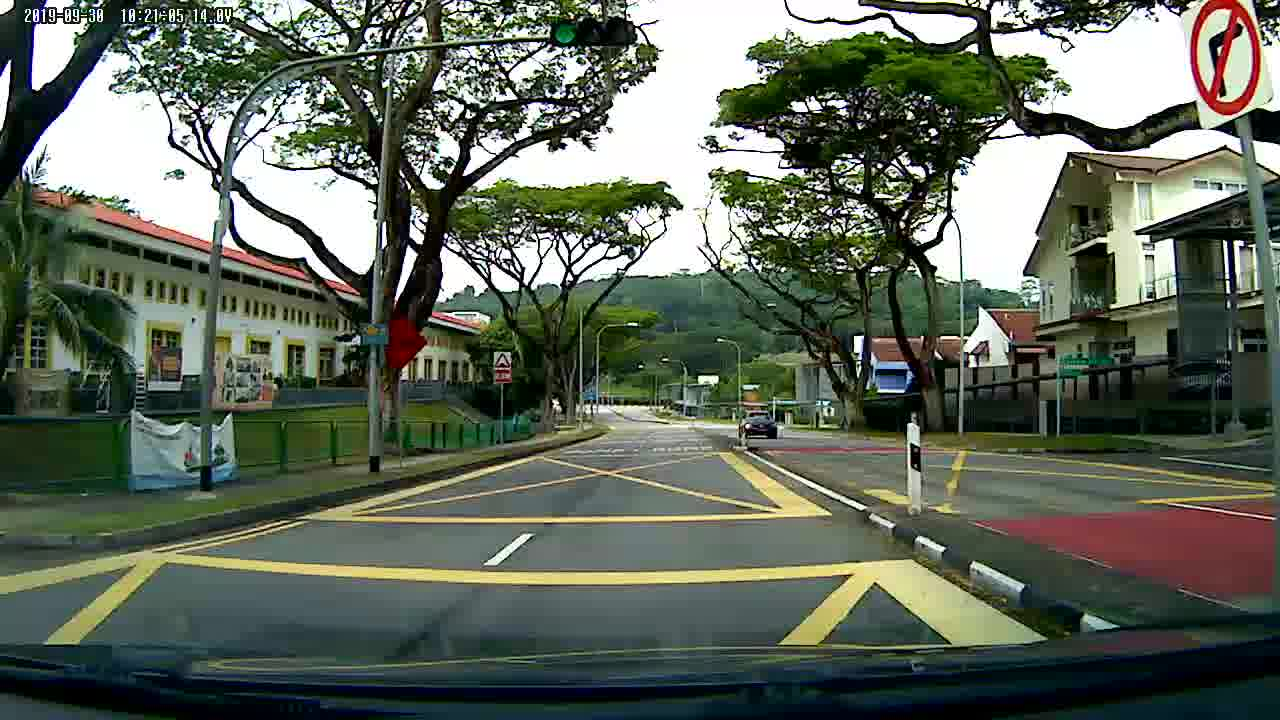car: (735, 408, 779, 439)
